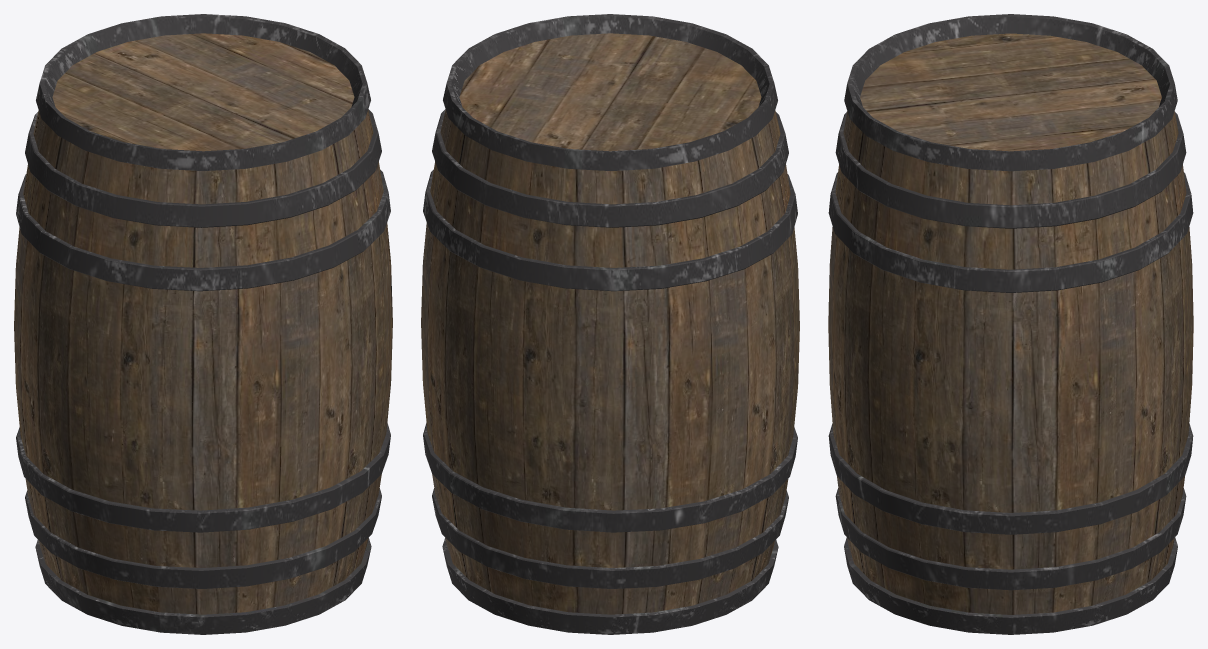
3 renders of one model, left to right at view 1: azimuth 30°, elevation 25°; view 2: azimuth 150°, elevation 25°; view 3: azimuth 270°, elevation 25°, orthographic.
Parts seen in each view (by area): view 1: pCylinder1; view 2: pCylinder1; view 3: pCylinder1.
Boxes of the visible parts, bbox=[...] form: pCylinder1: bbox=[14, 14, 392, 634]; pCylinder1: bbox=[421, 14, 799, 634]; pCylinder1: bbox=[828, 14, 1193, 634].
Size of the model in its own units: 0.7197 by 1 by 0.6863.
Materials: 1 (1 with a texture image).
